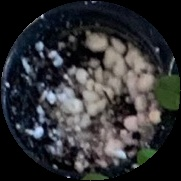Basil: (149, 72, 181, 109)
